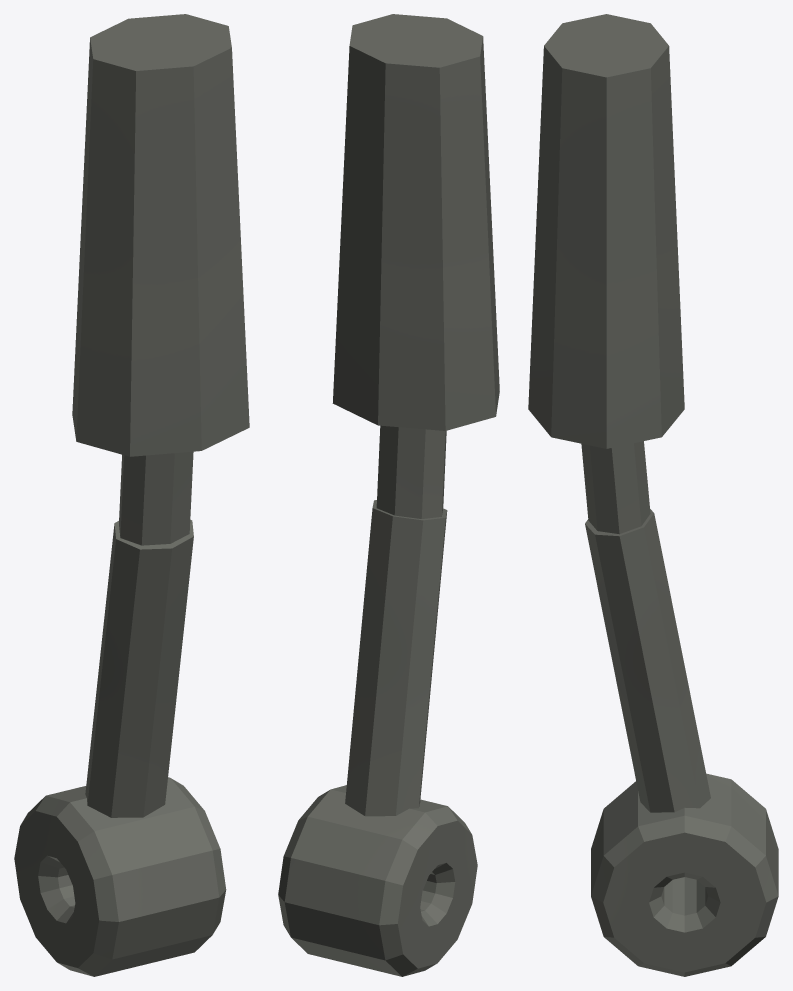
The model's file is WarrensC_CCS40_ExistingShortcutLeverHandle_Mars_SM.fbx.
3 views of the same model, side by side, from view 1: azimuth 30°, elevation 25°; view 2: azimuth 150°, elevation 25°; view 3: azimuth 270°, elevation 25° (orthographic). The views are drawn at different scales.
Parts seen in each view (by area): view 1: WarrensC_CCS40_ExistingShortcutLeverHandle_Mars_SM.001; view 2: WarrensC_CCS40_ExistingShortcutLeverHandle_Mars_SM.001; view 3: WarrensC_CCS40_ExistingShortcutLeverHandle_Mars_SM.001.
Boxes of the visible parts, x1,y1,x2,y2 form: WarrensC_CCS40_ExistingShortcutLeverHandle_Mars_SM.001: (14, 14, 249, 976); WarrensC_CCS40_ExistingShortcutLeverHandle_Mars_SM.001: (278, 14, 499, 976); WarrensC_CCS40_ExistingShortcutLeverHandle_Mars_SM.001: (528, 14, 778, 976).
Size of the model in its own units: 15 by 20 by 80.
